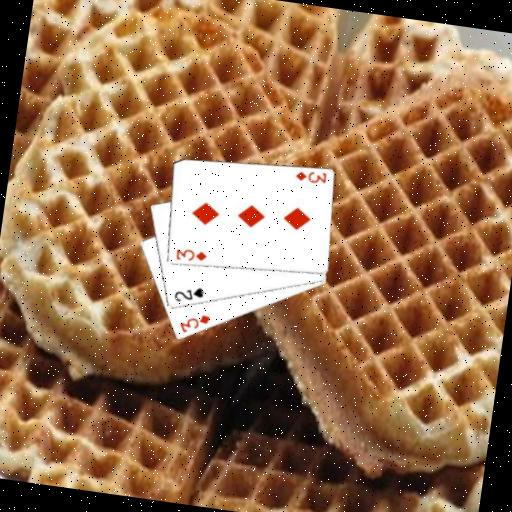2S: (170, 281, 207, 307)
3D: (175, 309, 212, 338), (172, 245, 209, 266), (292, 166, 329, 186)
